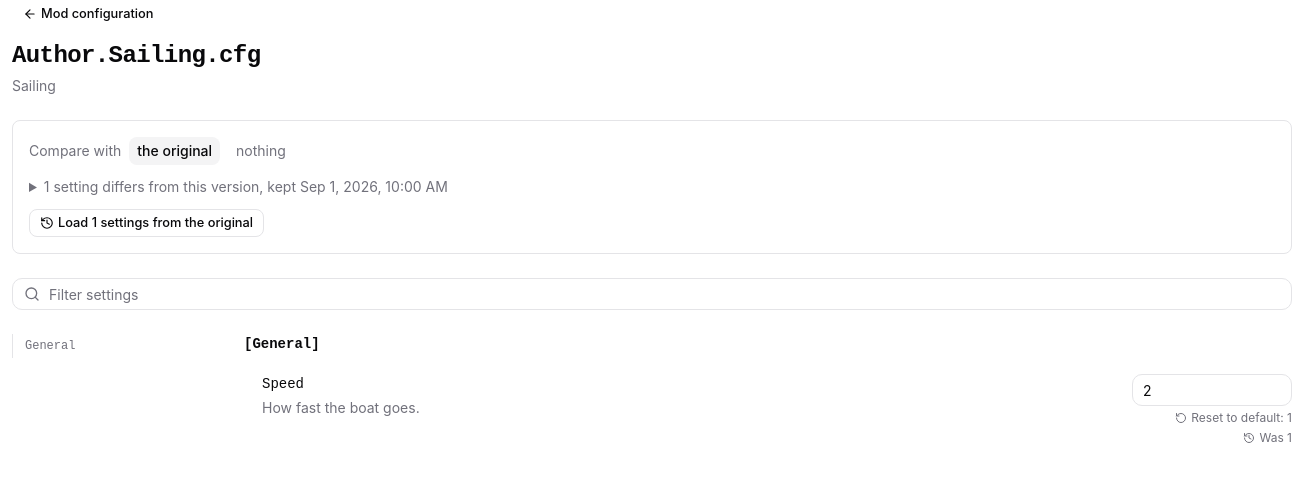
Scenario: the config editor › offers the kept original and restores it into the form without writing
Click the button "Load 1 settings from the original" at (146, 223), box [29,209,264,237]
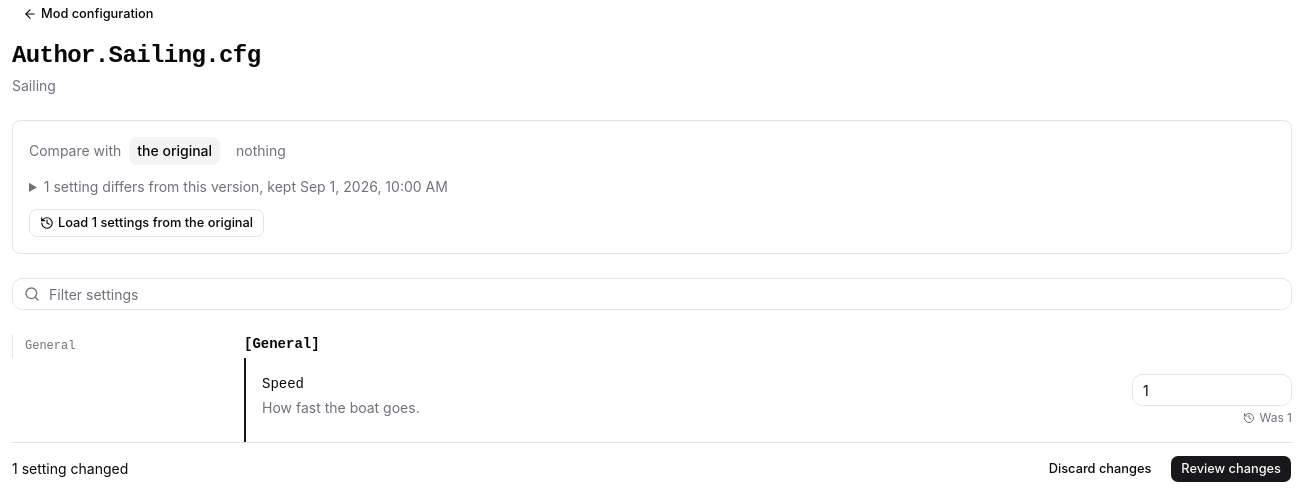
Check: the number field labelled "Speed" holds "1", box [1132,374,1292,406]
Check: the button "Review changes" is shown, box [1170,455,1292,483]
